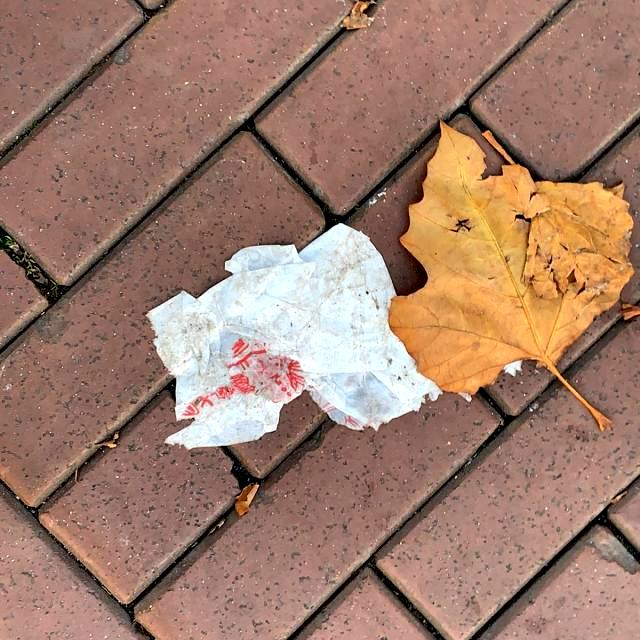Paper: (142, 220, 442, 452)
